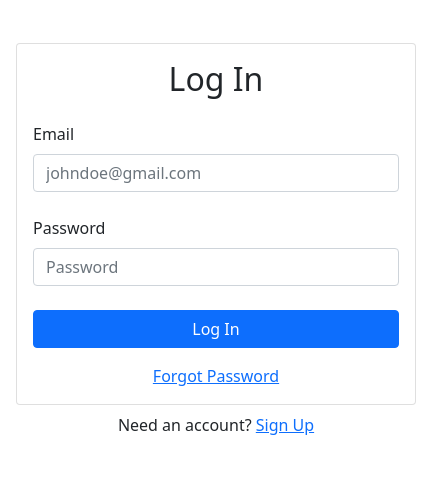
Test: Sign Up Page › Sign up page loads
The image size is (433, 479).
Click the link to "/signup".
click(285, 425)  # box [256, 414, 314, 436]
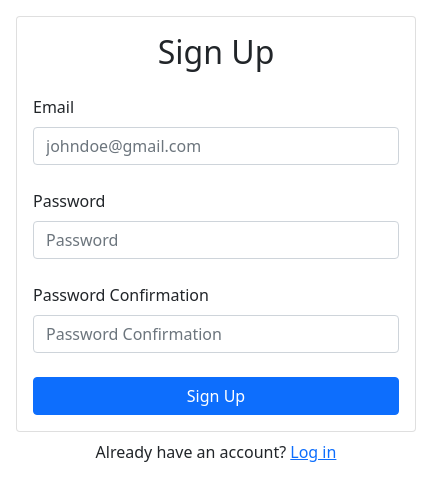
Now the heading "Sign Up" is shown, box [158, 30, 274, 73]
